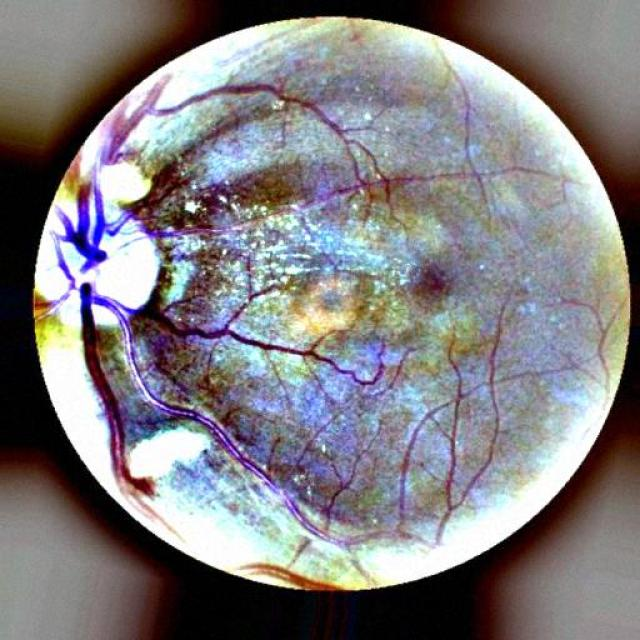Macula: (396, 245, 469, 315)
Nerves: (47, 83, 406, 530)
Optic Disk: (24, 191, 181, 354)
